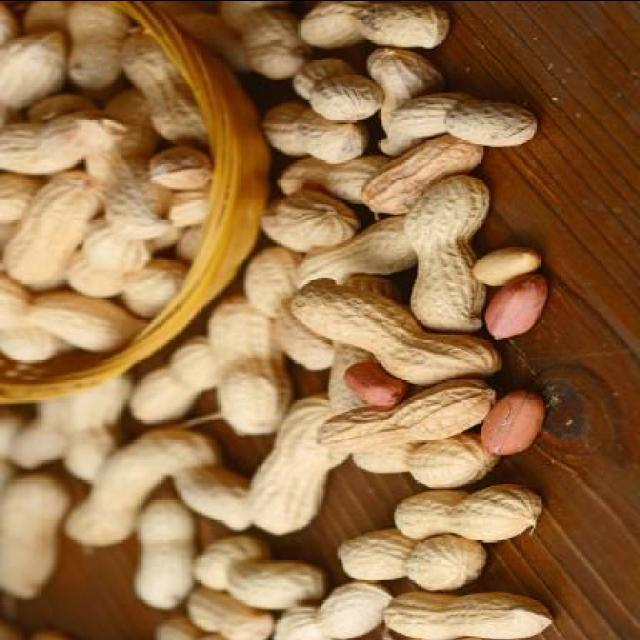Frutta secca: (149, 1, 563, 627), (0, 38, 197, 374)
